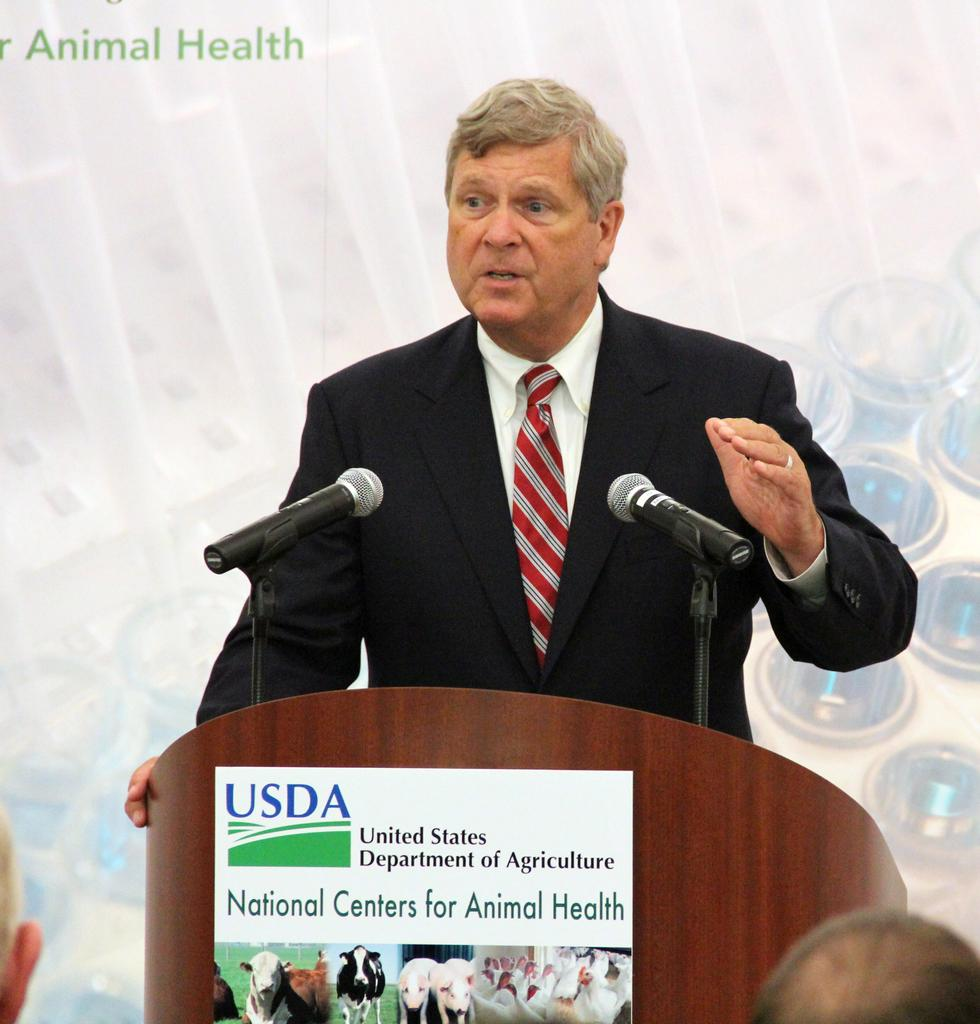no_helmet: (444, 70, 648, 176)
none: (290, 320, 792, 728)
